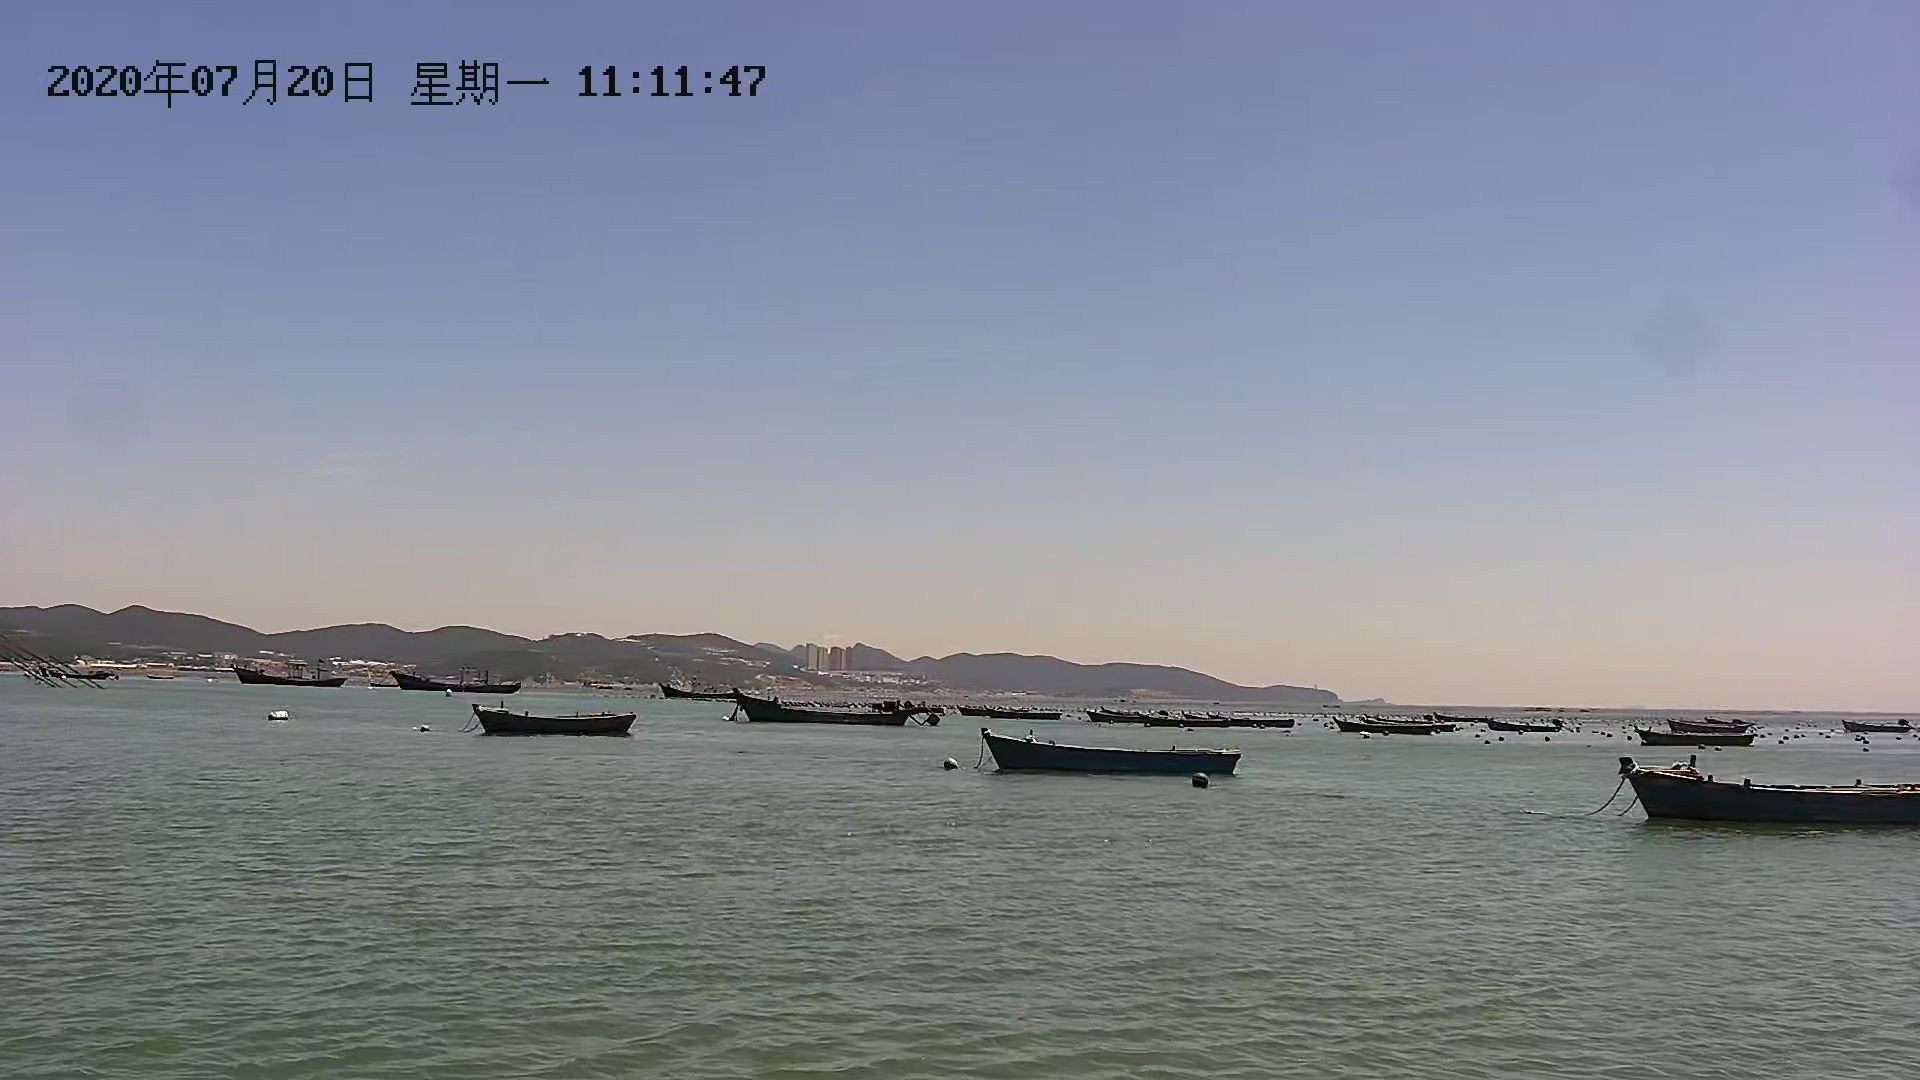ball: (934, 756, 964, 775), (1192, 775, 1217, 794)
boat: (1618, 760, 1920, 828), (971, 725, 1245, 779), (729, 687, 913, 720), (469, 702, 638, 736), (400, 673, 522, 695), (237, 669, 344, 694), (1640, 731, 1764, 746)
rubbish: (262, 708, 301, 727)
